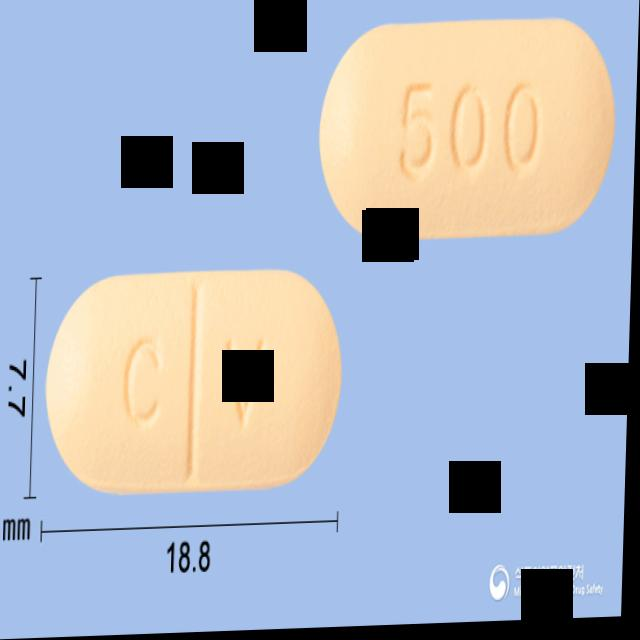Cravit: (46, 266, 346, 498), (317, 20, 620, 244)
